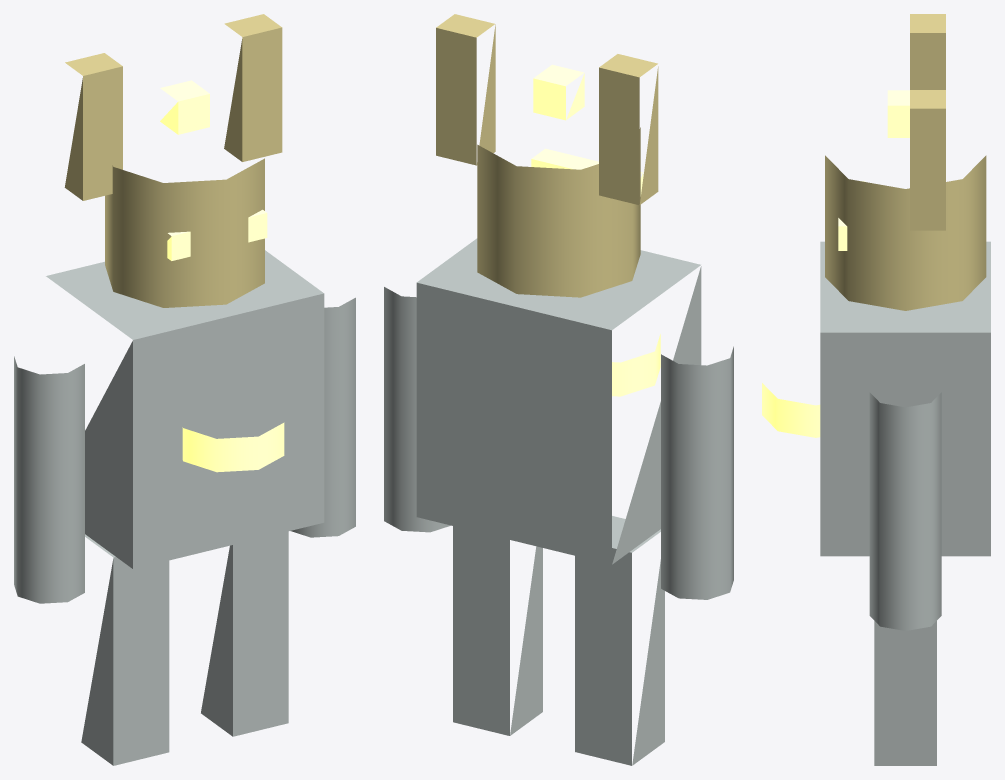
Rendered from golem_luminous_03.glb.
The picture shows the model from 3 angles, left to right: view 1: azimuth 30°, elevation 25°; view 2: azimuth 150°, elevation 25°; view 3: azimuth 270°, elevation 25°; orthographic projection. The views are drawn at different scales.
Visible parts, largest first — view 1: LuminousChrome, LuminousGold, LuminousGlow; view 2: LuminousChrome, LuminousGold, LuminousGlow; view 3: LuminousChrome, LuminousGold, LuminousGlow.
Boxes of the visible parts, x1=… form: LuminousChrome: x1=14, y1=250, x2=355, y2=765; LuminousGold: x1=64, y1=14, x2=282, y2=307; LuminousGlow: x1=160, y1=80, x2=284, y2=472; LuminousChrome: x1=384, y1=238, x2=733, y2=765; LuminousGold: x1=436, y1=14, x2=658, y2=297; LuminousGlow: x1=531, y1=64, x2=660, y2=396; LuminousChrome: x1=820, y1=241, x2=990, y2=765; LuminousGold: x1=825, y1=14, x2=986, y2=310; LuminousGlow: x1=762, y1=90, x2=909, y2=437.
Size of the model in its own units: 0.84 by 1.63 by 0.51.
